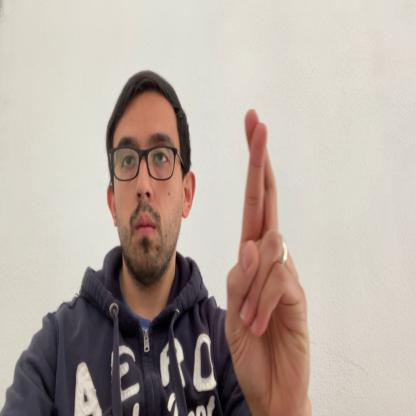R: (225, 106, 312, 415)
